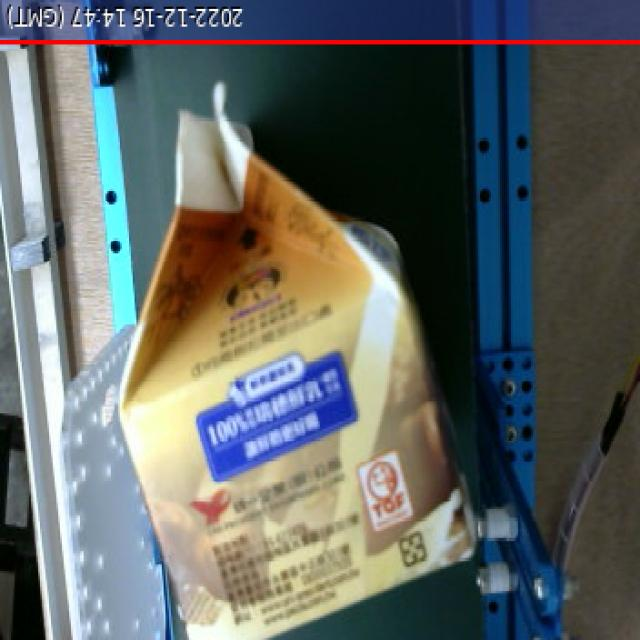non_white_jug: (89, 67, 502, 640)
